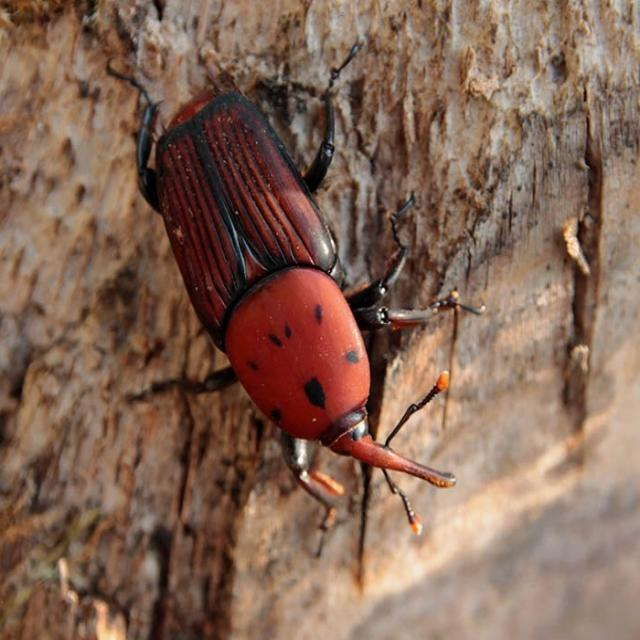Red-palm-weevil: (96, 53, 474, 581)
